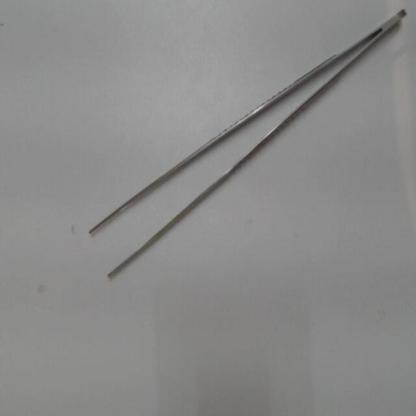DeBakey Dissector: (75, 5, 411, 302)
